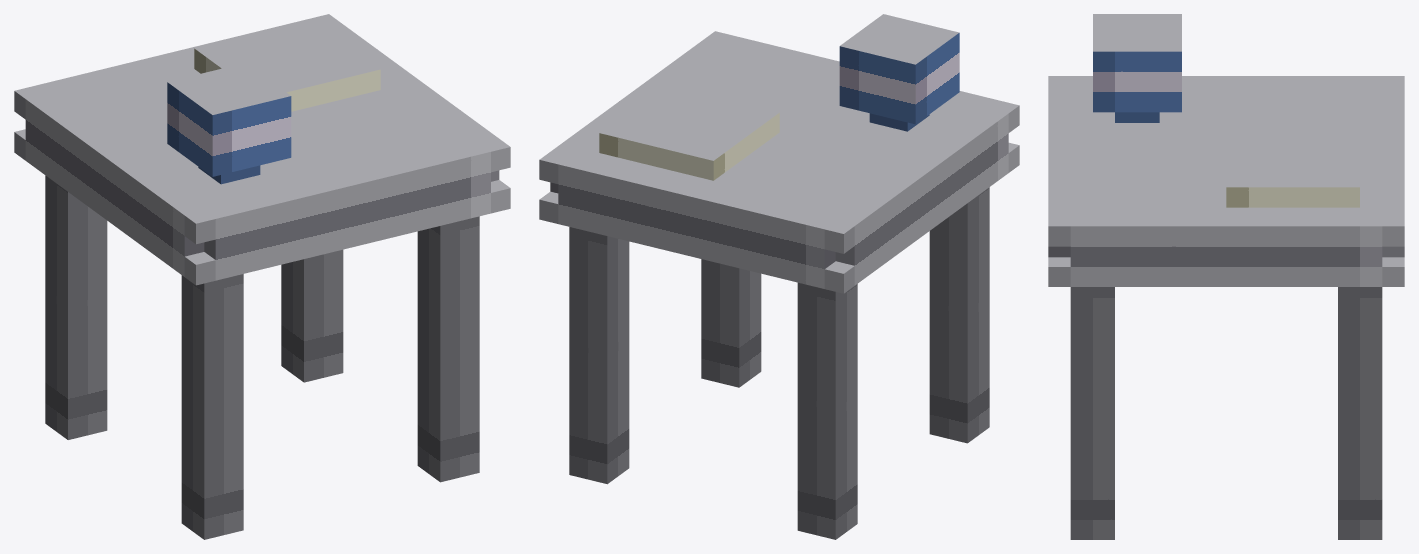
The model's file is int_metal_tableao.fezao.glb.
The picture shows the model from 3 angles, left to right: view 1: azimuth 30°, elevation 25°; view 2: azimuth 150°, elevation 25°; view 3: azimuth 270°, elevation 25°; orthographic projection. The views are drawn at different scales.
Parts seen in each view (by area): view 1: INT_METAL_TABLEAO; view 2: INT_METAL_TABLEAO; view 3: INT_METAL_TABLEAO.
Boxes of the visible parts, bbox=[...] form: INT_METAL_TABLEAO: bbox=[14, 14, 510, 539]; INT_METAL_TABLEAO: bbox=[539, 14, 1019, 539]; INT_METAL_TABLEAO: bbox=[1048, 14, 1404, 539].
Size of the model in its own units: 1 by 1.25 by 1.
Materials: 1 (1 with a texture image).
